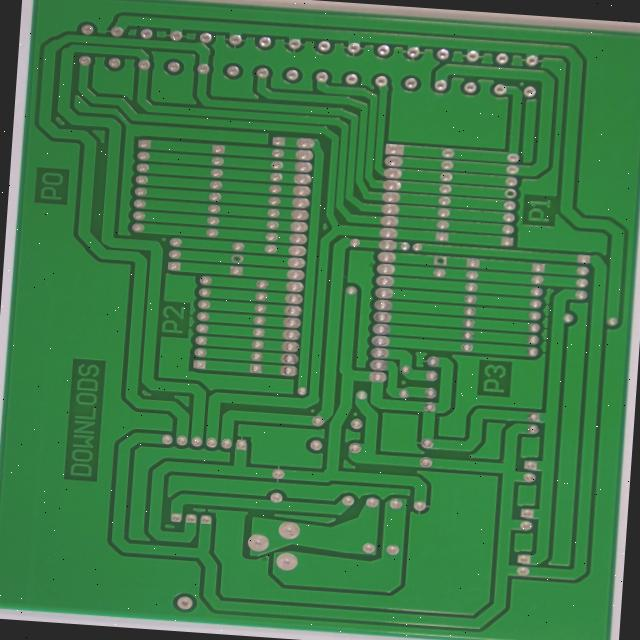missing_hole: (167, 270, 187, 285), (480, 200, 500, 214), (400, 274, 418, 287)
